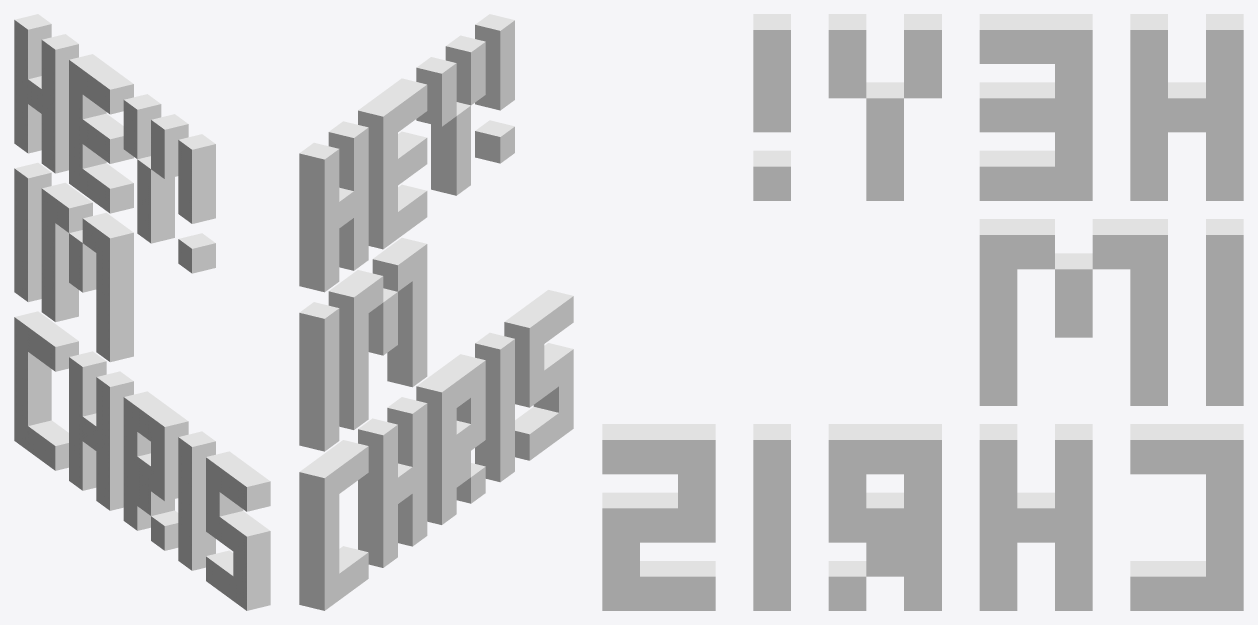
Rendered from imchris.glb.
The picture shows the model from 3 angles, left to right: view 1: azimuth 30°, elevation 25°; view 2: azimuth 150°, elevation 25°; view 3: azimuth 270°, elevation 25°; orthographic projection. The views are drawn at different scales.
Parts seen in each view (by area): view 1: Node #0; view 2: Node #0; view 3: Node #0.
Part boxes in pixels (bbox=[...]): Node #0: bbox=[14, 14, 270, 610]; Node #0: bbox=[299, 14, 573, 610]; Node #0: bbox=[602, 14, 1243, 610].
Size of the model in its own units: 1 by 17 by 17.
Materials: 1 (1 with a texture image).
